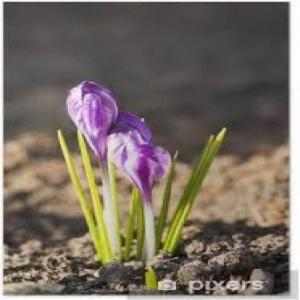Saffron: (108, 110, 172, 209), (67, 80, 118, 161)
